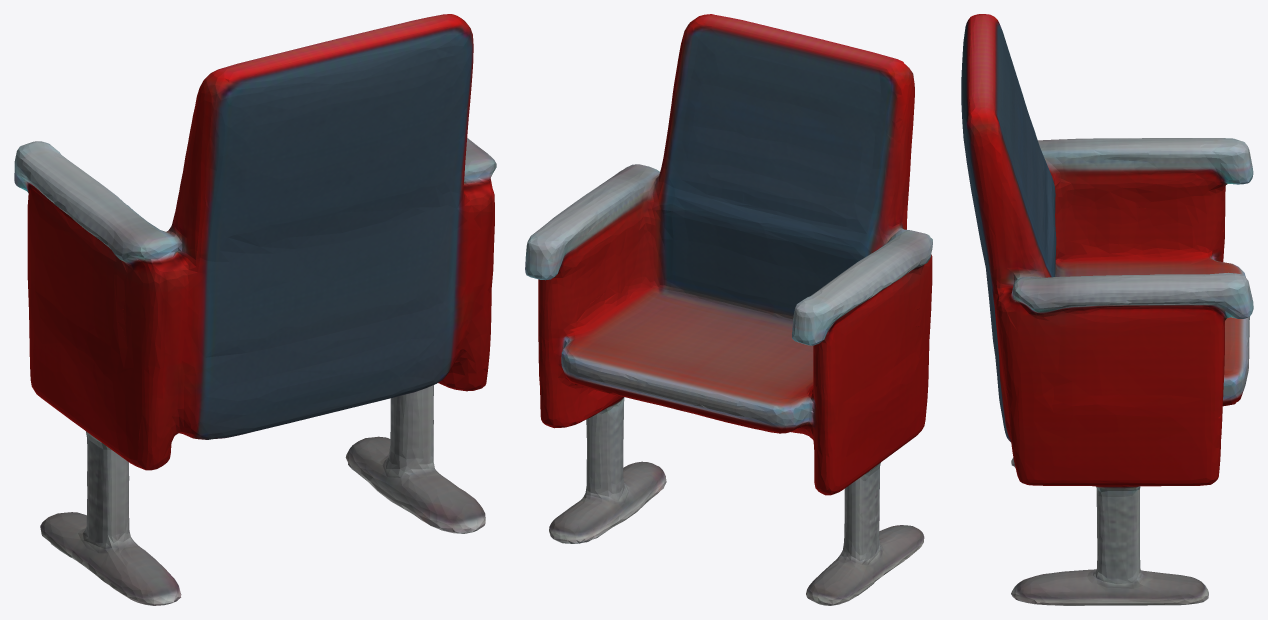
The picture shows the model from 3 angles, left to right: view 1: azimuth 30°, elevation 25°; view 2: azimuth 150°, elevation 25°; view 3: azimuth 270°, elevation 25°; orthographic projection. The views are drawn at different scales.
Parts seen in each view (by area): view 1: Mesh_0.001; view 2: Mesh_0.001; view 3: Mesh_0.001.
Boxes of the visible parts, x1=… form: Mesh_0.001: x1=14, y1=14, x2=496, y2=605; Mesh_0.001: x1=525, y1=14, x2=932, y2=605; Mesh_0.001: x1=961, y1=14, x2=1253, y2=605.
Bounding box in the file's own units: 5.28 × 7.37 × 4.13.
1 material, 1 textured.
